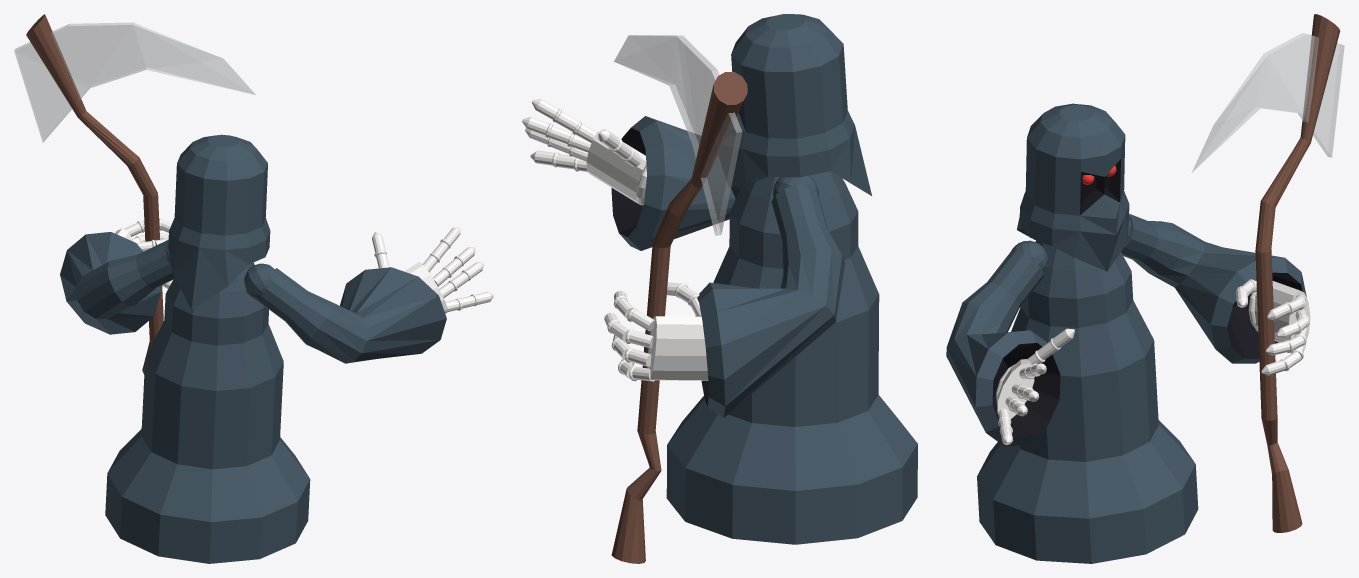
File: 3Ook4jHoAjW.glb
3 views of the same model, side by side, from view 1: azimuth 30°, elevation 25°; view 2: azimuth 150°, elevation 25°; view 3: azimuth 270°, elevation 25° (orthographic). The views are drawn at different scales.
Visible parts, largest first — view 1: group892375890; view 2: group892375890; view 3: group892375890.
Boxes of the visible parts, box(x1,y1,x2,y2) form: group892375890: box(14, 14, 493, 563); group892375890: box(522, 14, 917, 563); group892375890: box(946, 14, 1344, 563).
Size of the model in its own units: 0.8913 by 1.12 by 0.8459.
2 materials, 2 textured.
